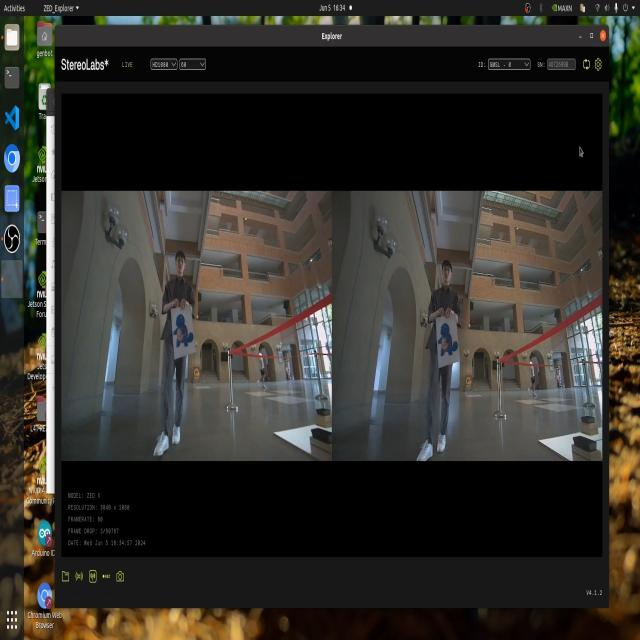blue: (164, 311, 198, 358), (436, 321, 460, 354)
